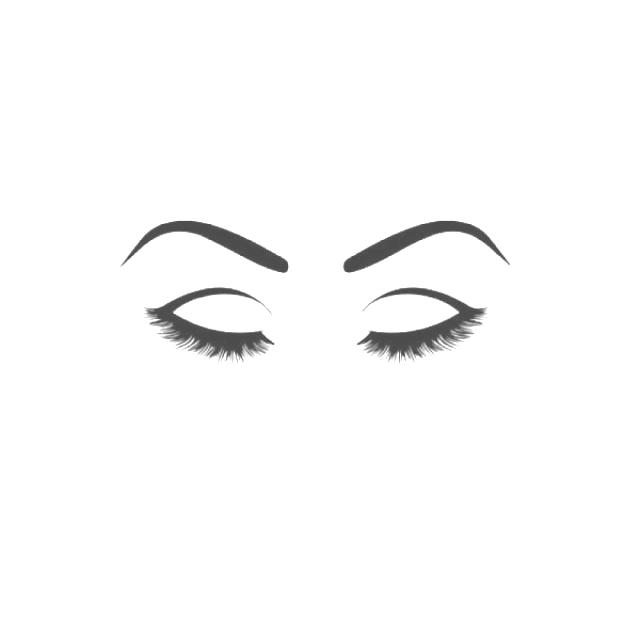real: (102, 196, 528, 396)
